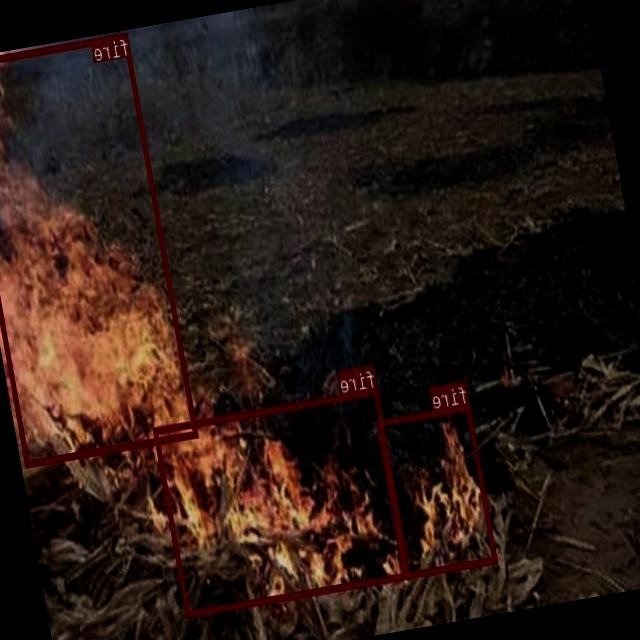fire: (0, 31, 199, 466), (154, 387, 412, 616), (377, 402, 498, 577)
